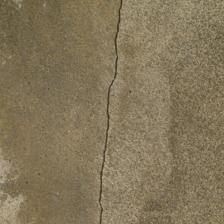Crack: (94, 2, 129, 221)
